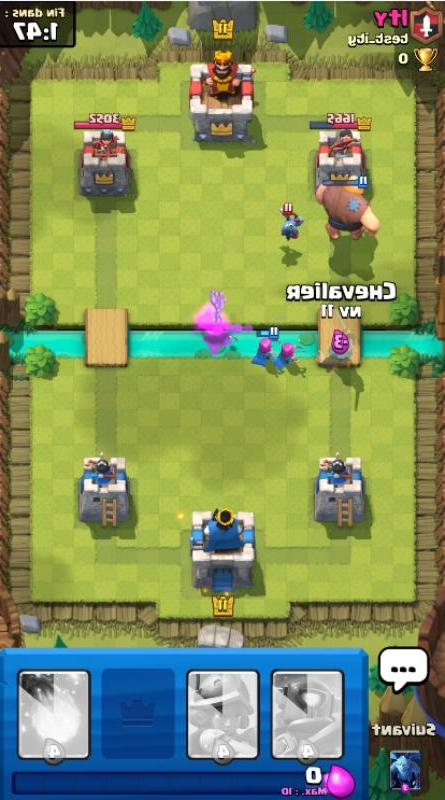archere: (250, 327, 281, 366), (272, 339, 306, 371)
chevalier: (314, 303, 356, 372)
gargouille: (279, 202, 304, 241)
geant: (315, 175, 381, 240)
